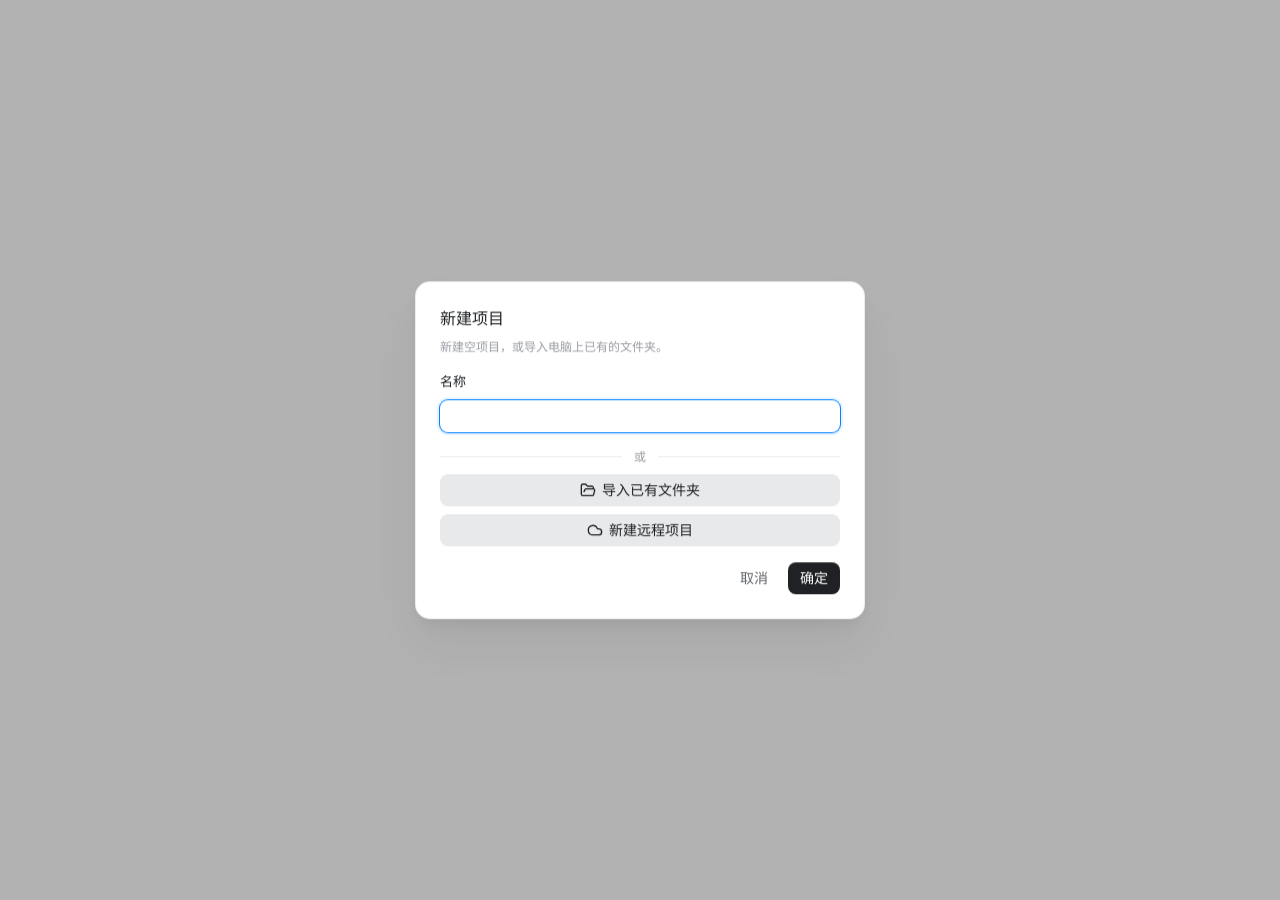
Scenario: hands the new-project dialog over to the remote project panel
Click the button "新建远程项目" at (640, 530), box [440,514,840,546]
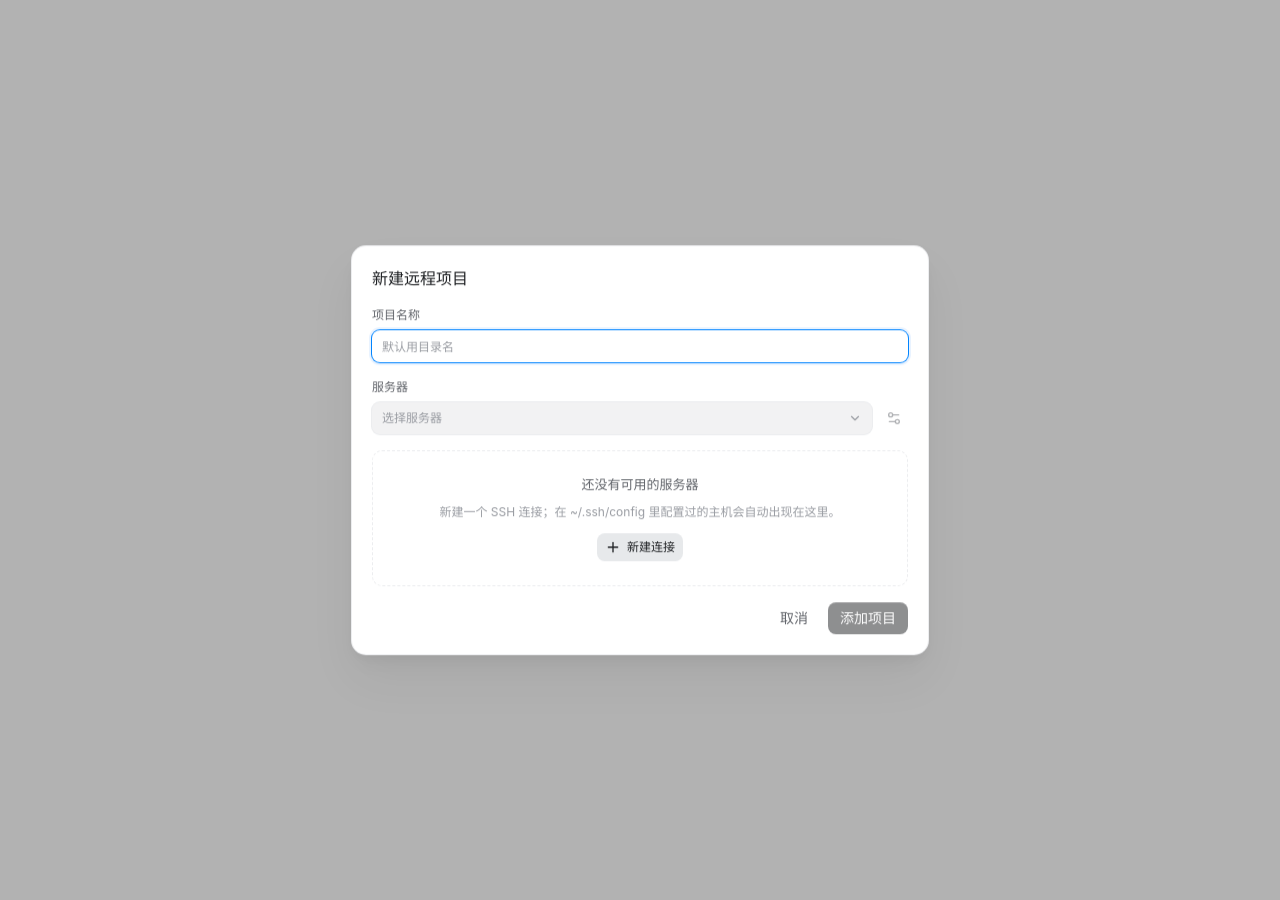
Now the number of dialogs is 1, box [352,246,928,654]
